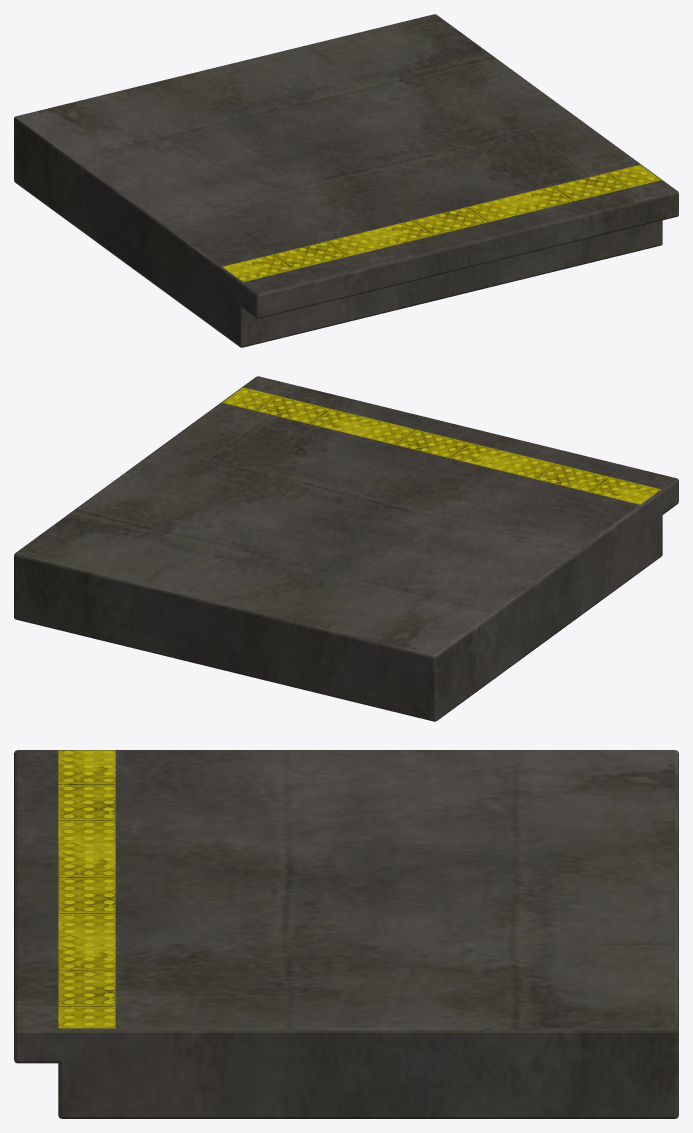
The model's file is SM_Platform_4m.fbx.
3 views of the same model, one above another, from view 1: azimuth 30°, elevation 25°; view 2: azimuth 150°, elevation 25°; view 3: azimuth 270°, elevation 25° (orthographic). The views are drawn at different scales.
Parts seen in each view (by area): view 1: SM_Platform_4m; view 2: SM_Platform_4m; view 3: SM_Platform_4m.
Boxes of the visible parts, <box> form: SM_Platform_4m: <box>14,14,678,347</box>; SM_Platform_4m: <box>14,376,678,721</box>; SM_Platform_4m: <box>14,750,678,1118</box>.
Size of the model in its own units: 4 by 4 by 0.6.
